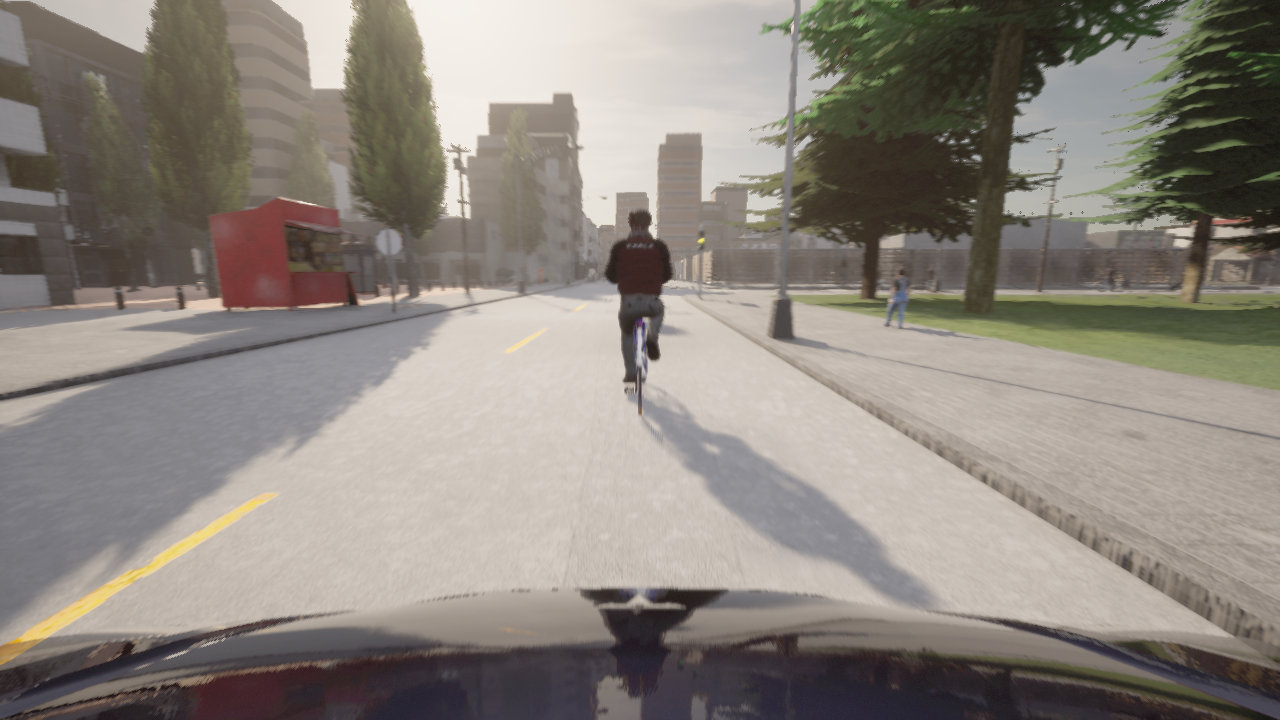cyclist: (0, 588, 1279, 719), (625, 319, 646, 414), (1167, 263, 1206, 291), (1097, 277, 1126, 291), (920, 276, 946, 291), (825, 268, 846, 278), (753, 270, 772, 280), (729, 267, 743, 280), (788, 271, 806, 280), (760, 273, 774, 280), (877, 279, 886, 289), (848, 271, 856, 278), (858, 270, 860, 272)
pedestrian: (883, 268, 910, 329), (538, 265, 543, 285)
